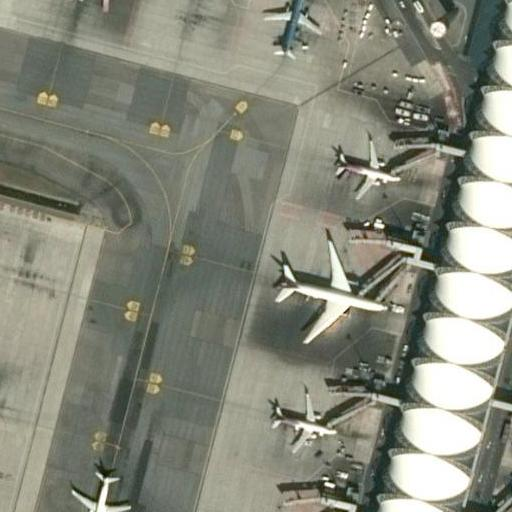Aircraft: (272, 230, 385, 346), (329, 135, 403, 199), (260, 0, 327, 62), (270, 392, 338, 452), (59, 463, 134, 512), (43, 0, 107, 7)
